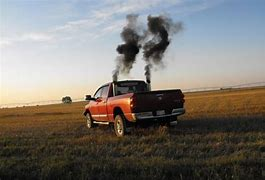smoke: (141, 15, 177, 80), (109, 22, 140, 76)
